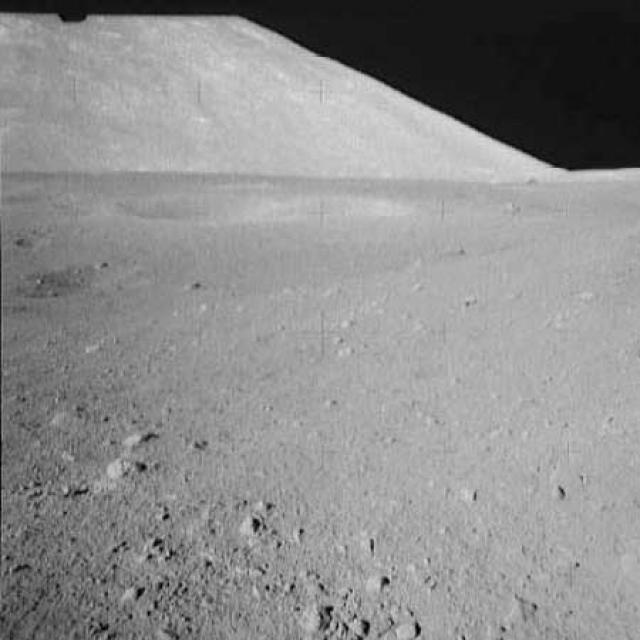crater: (117, 187, 399, 224), (9, 267, 96, 297)
